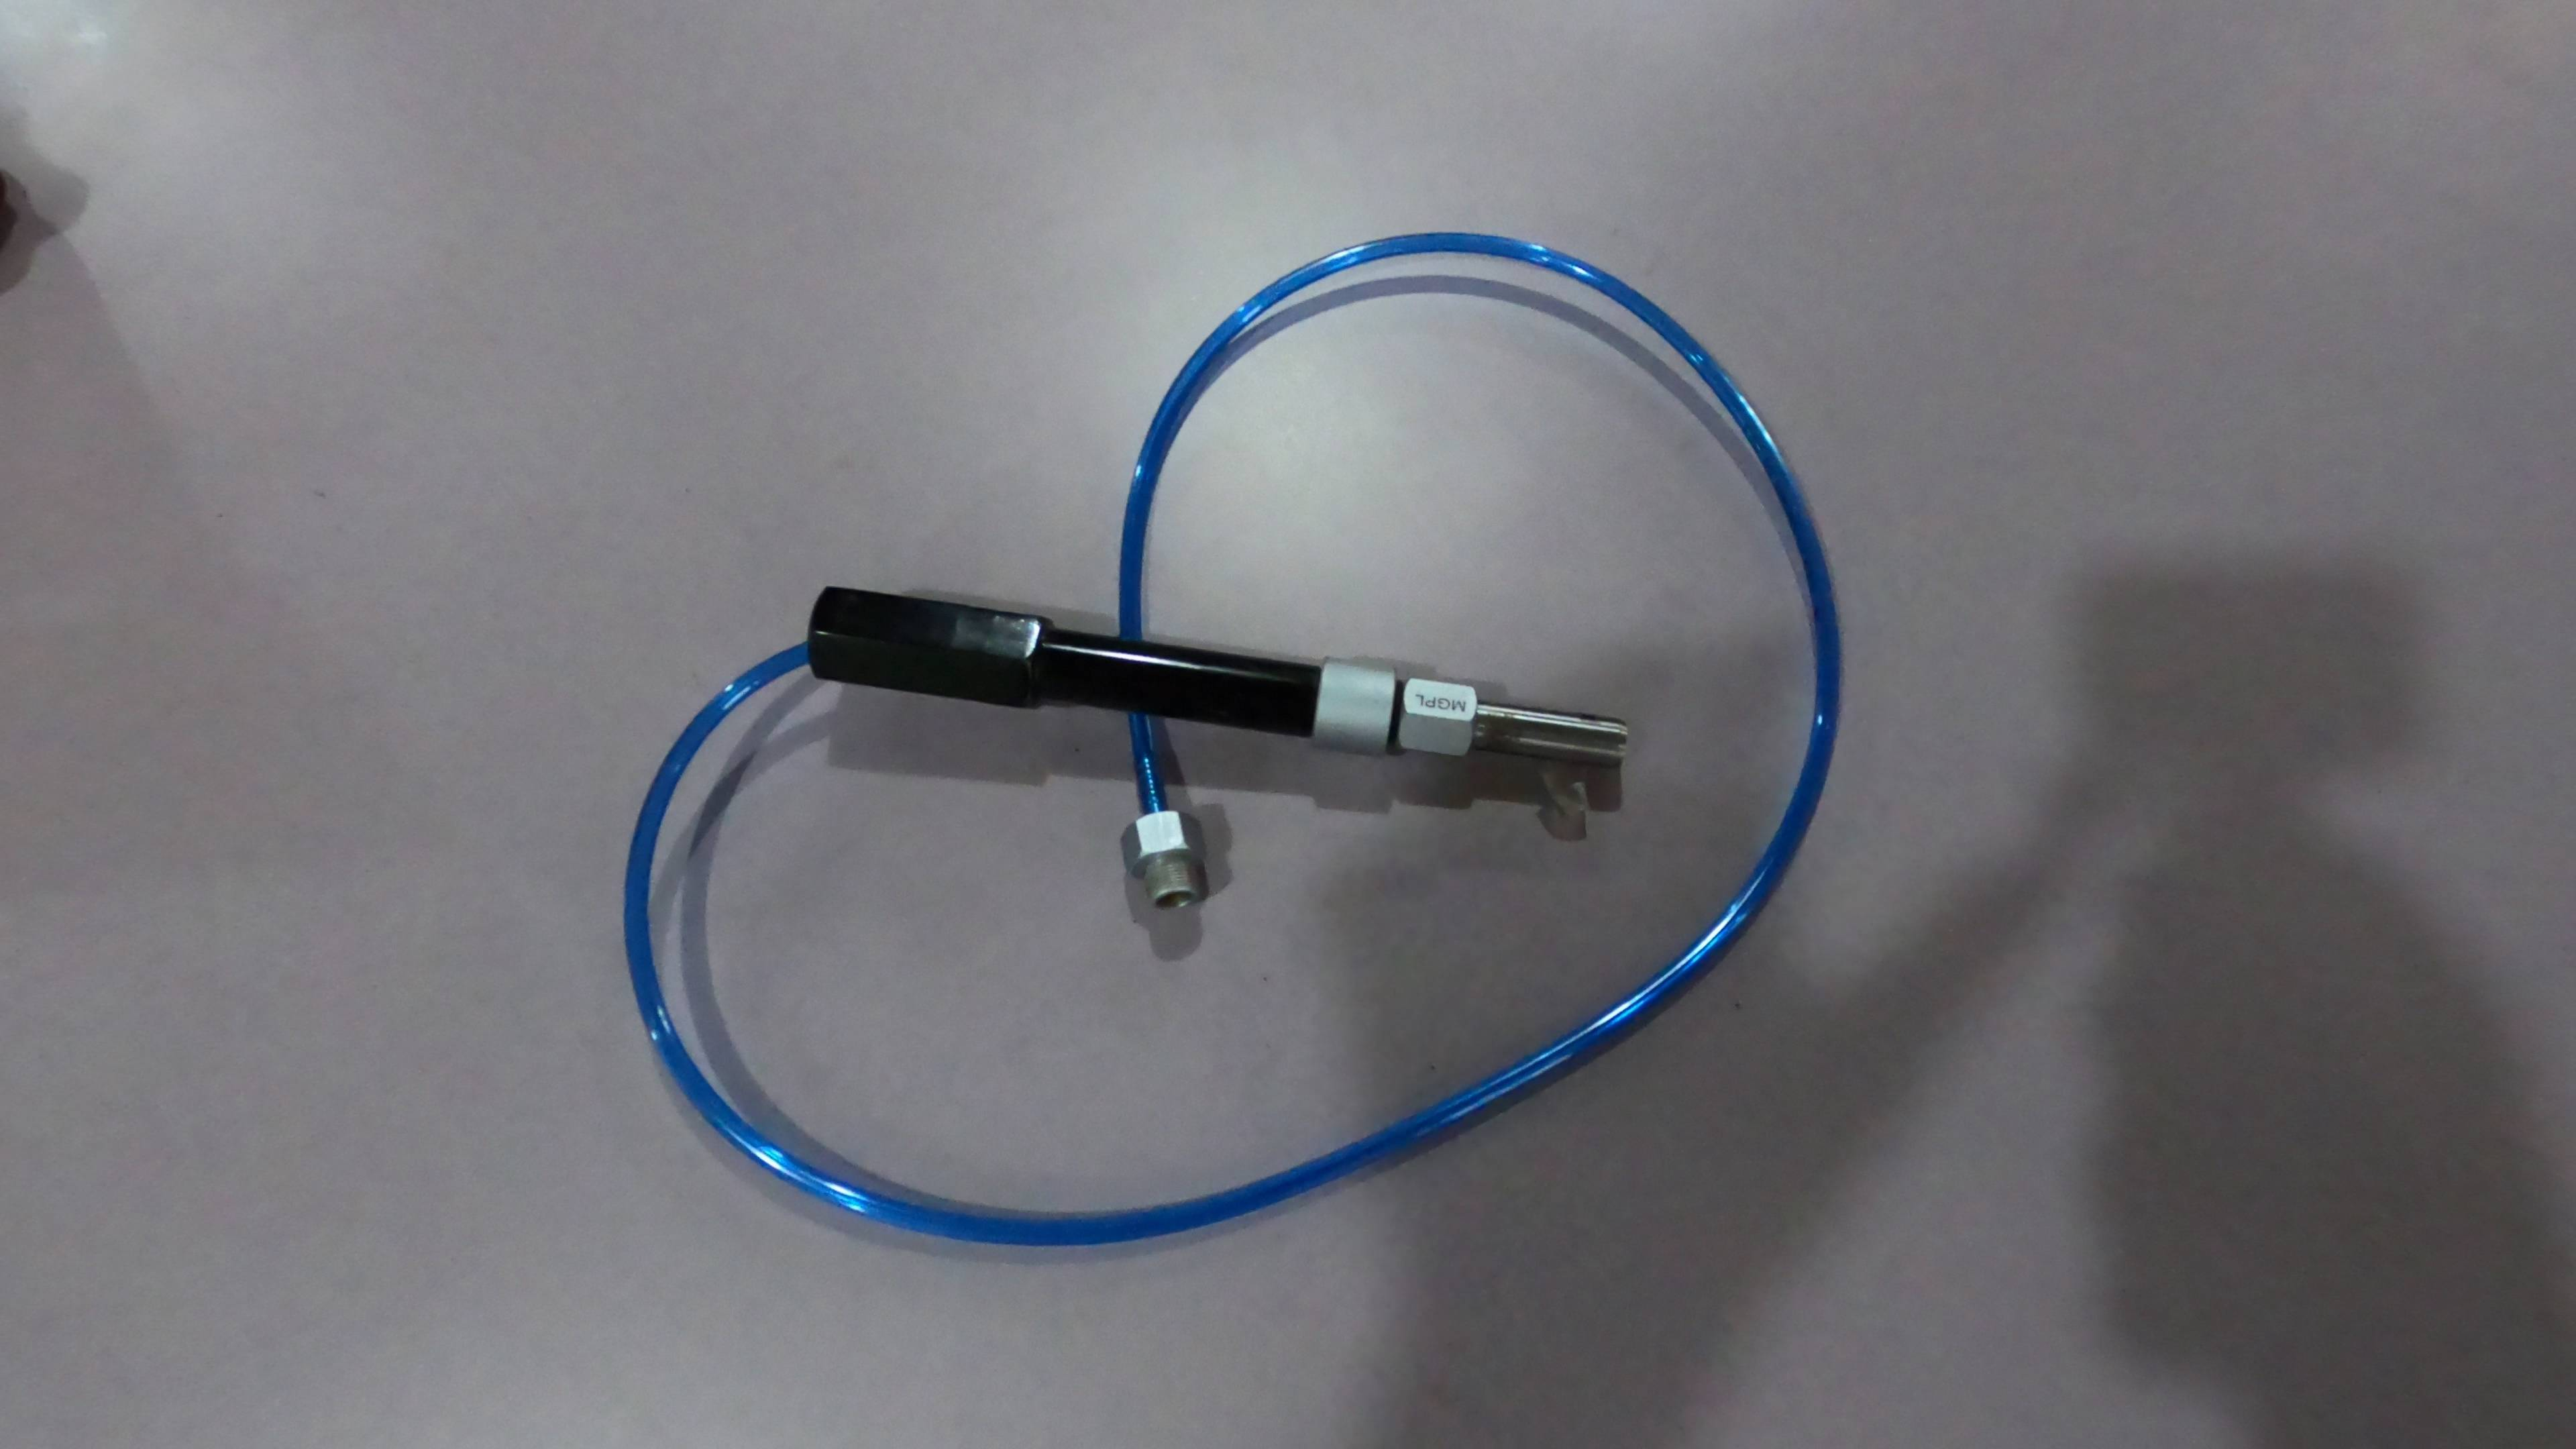air_gauge: (796, 563, 1637, 789)
